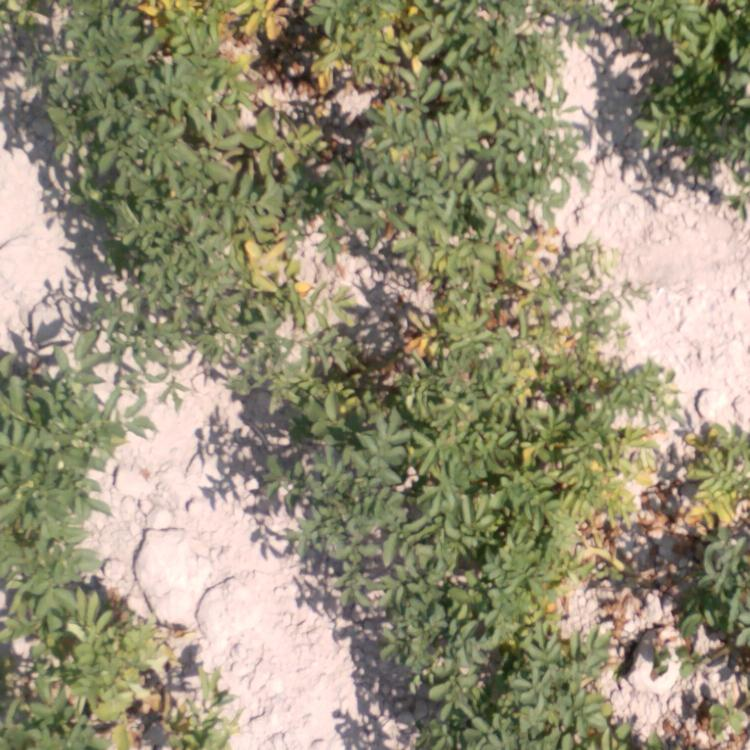healthy: (253, 424, 506, 592), (1, 334, 112, 607), (63, 141, 204, 333), (341, 610, 540, 741), (1, 1, 185, 137), (626, 3, 750, 199), (355, 110, 538, 235)
stressed: (364, 235, 624, 414), (210, 115, 348, 407), (193, 1, 570, 104), (3, 613, 243, 744), (521, 422, 653, 592), (653, 431, 750, 637), (555, 599, 628, 745)
